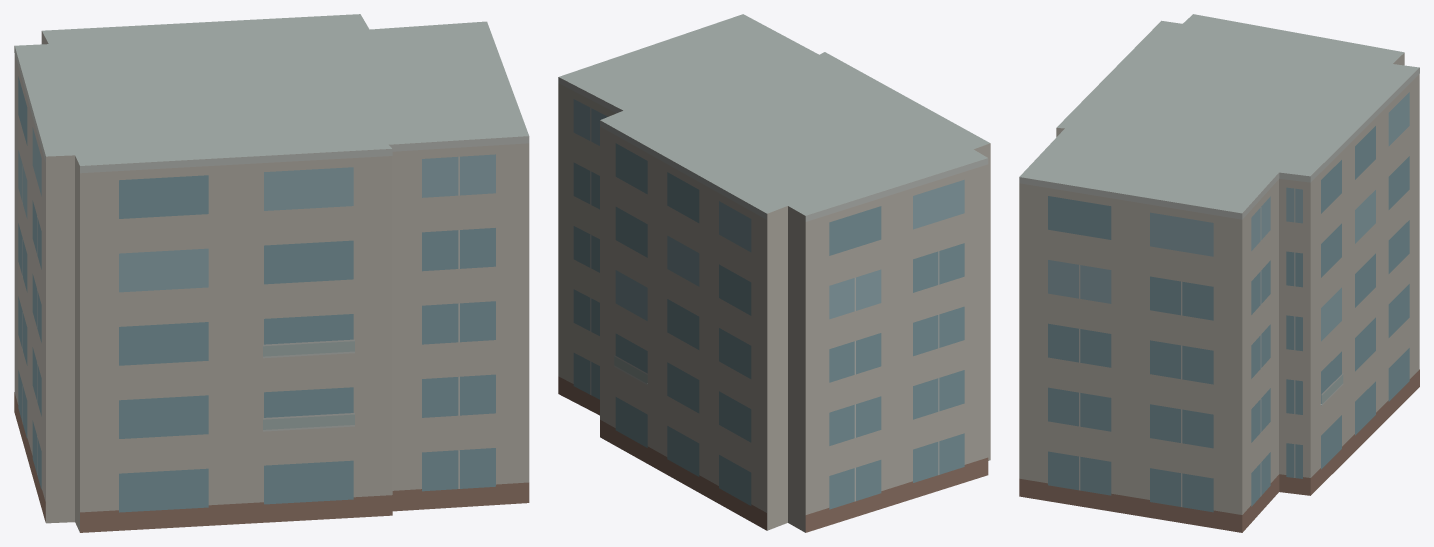
The model's file is survey-upis-32589591.glb.
3 renders of one model, left to right at view 1: azimuth 30°, elevation 25°; view 2: azimuth 150°, elevation 25°; view 3: azimuth 270°, elevation 25°, orthographic. The views are drawn at different scales.
Visible parts, largest first — view 1: survey-upis-32589591.tmp; view 2: survey-upis-32589591.tmp; view 3: survey-upis-32589591.tmp.
Boxes of the visible parts, x1,y1,x2,y2 form: survey-upis-32589591.tmp: (14, 14, 529, 532); survey-upis-32589591.tmp: (558, 14, 990, 532); survey-upis-32589591.tmp: (1019, 14, 1419, 532).
Bounding box in the file's own units: 16.68 × 12.45 × 14.16.
